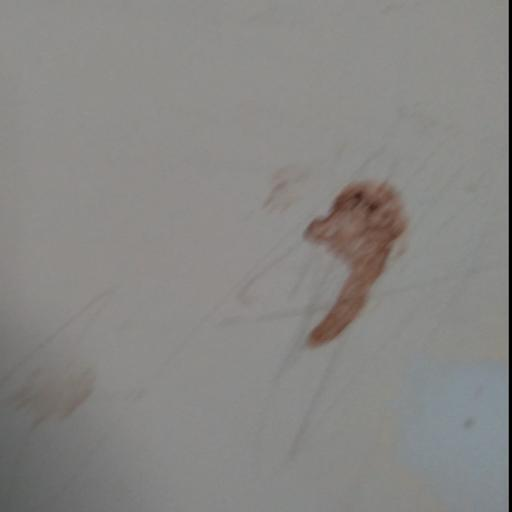stain: (248, 151, 493, 444), (0, 271, 182, 466)
